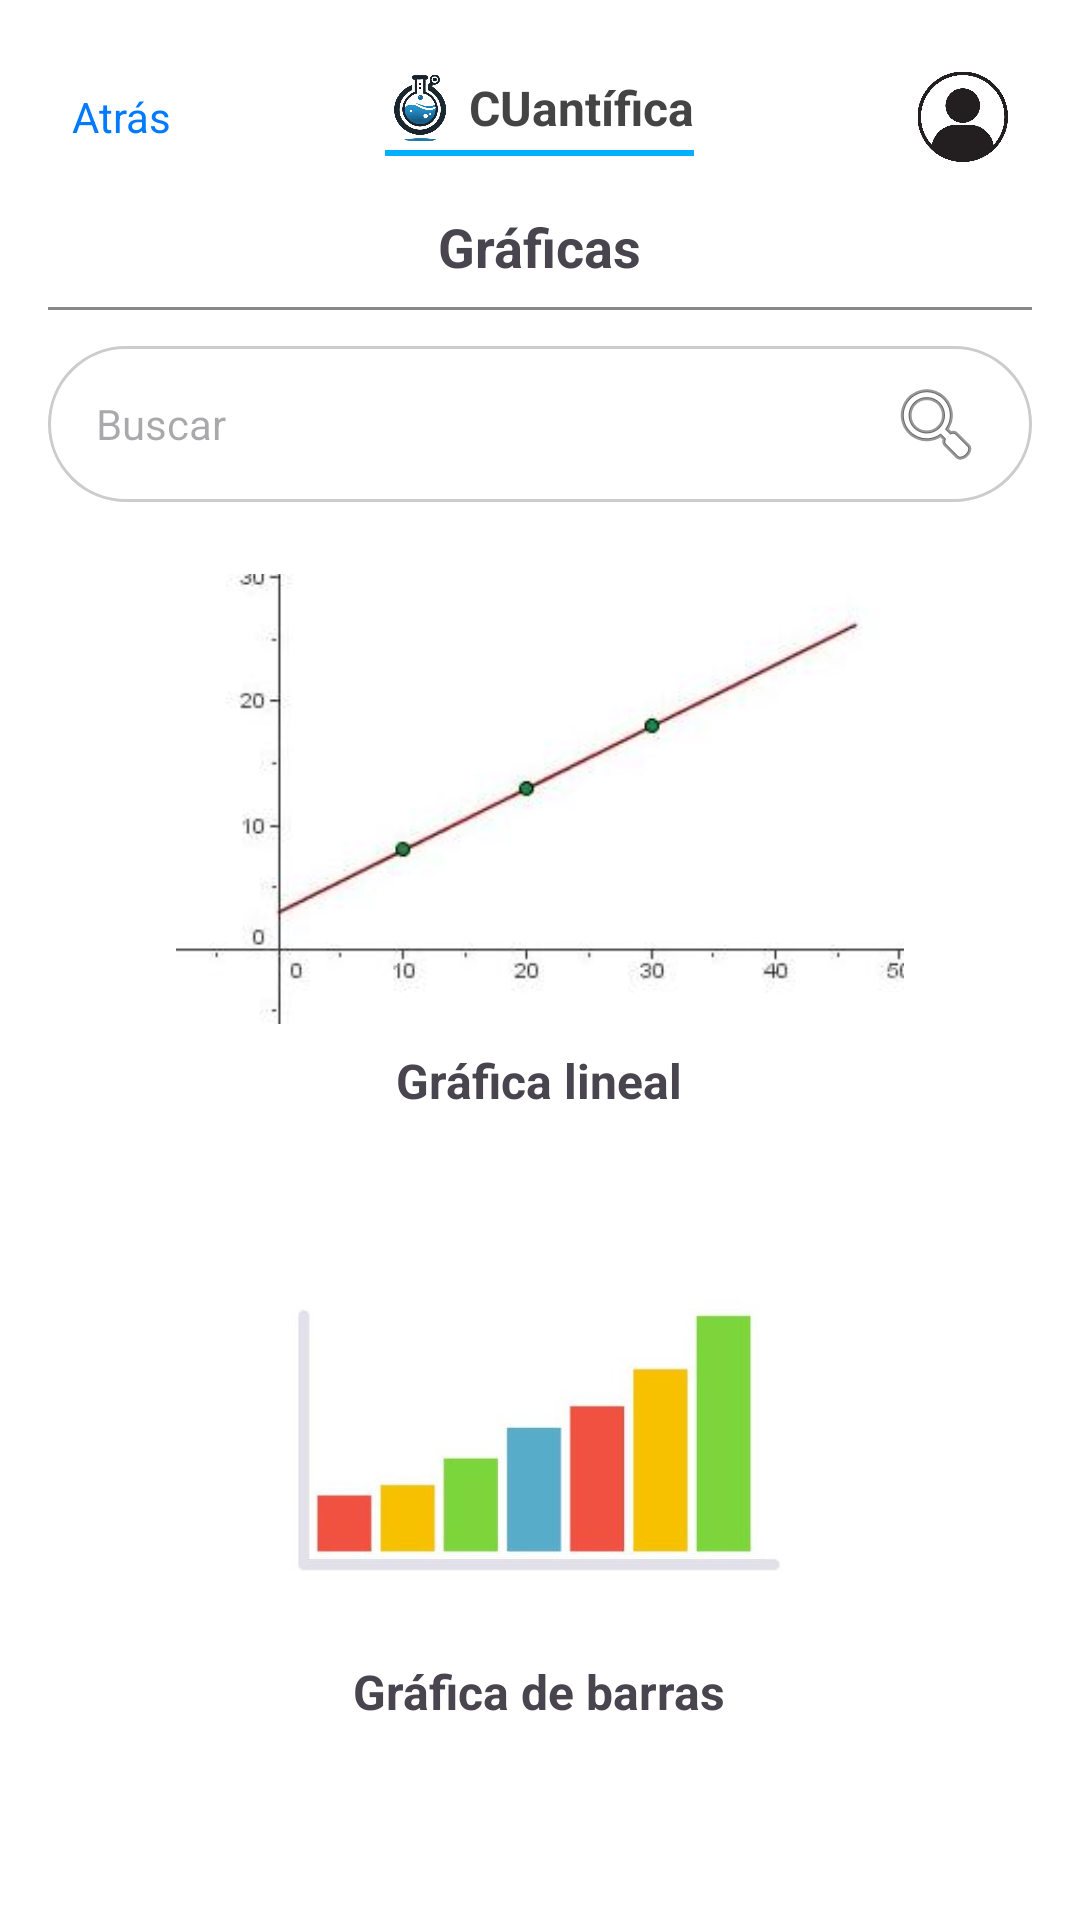

Named icons in this screenshot (1080px x 1920px) and their centers, (x,y):
usuario: (963,117)
